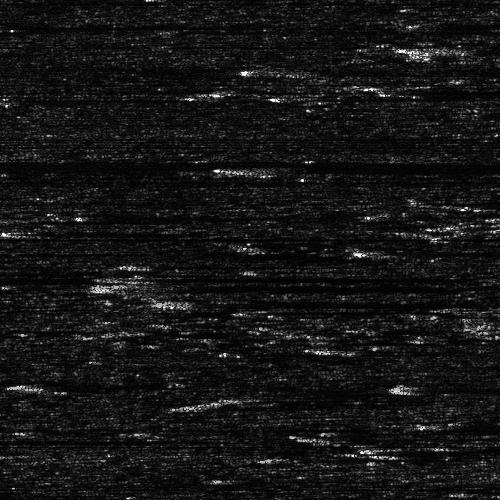rock: (194, 433, 500, 458), (164, 161, 341, 174), (369, 40, 500, 57), (64, 266, 169, 287), (206, 62, 363, 75), (59, 277, 164, 296), (124, 294, 229, 309), (151, 398, 234, 411), (379, 18, 462, 29), (308, 245, 391, 256), (0, 213, 71, 224), (4, 379, 67, 390), (0, 228, 66, 237), (394, 380, 435, 391), (0, 20, 29, 29), (0, 94, 18, 103), (0, 496, 24, 500), (492, 420, 500, 427)
shadow: (0, 153, 500, 176), (117, 266, 465, 287), (0, 254, 295, 277), (112, 277, 460, 296), (177, 294, 500, 309), (253, 161, 500, 174), (372, 433, 500, 458), (285, 62, 500, 75), (193, 398, 372, 411), (0, 20, 235, 29), (0, 434, 188, 445), (0, 94, 229, 103), (36, 379, 210, 390), (30, 213, 194, 224), (350, 245, 500, 256), (14, 228, 182, 237), (0, 489, 121, 498), (0, 376, 120, 385), (415, 380, 500, 391), (448, 40, 500, 57), (421, 18, 500, 29), (0, 250, 138, 255), (0, 496, 78, 500), (0, 274, 10, 281)
